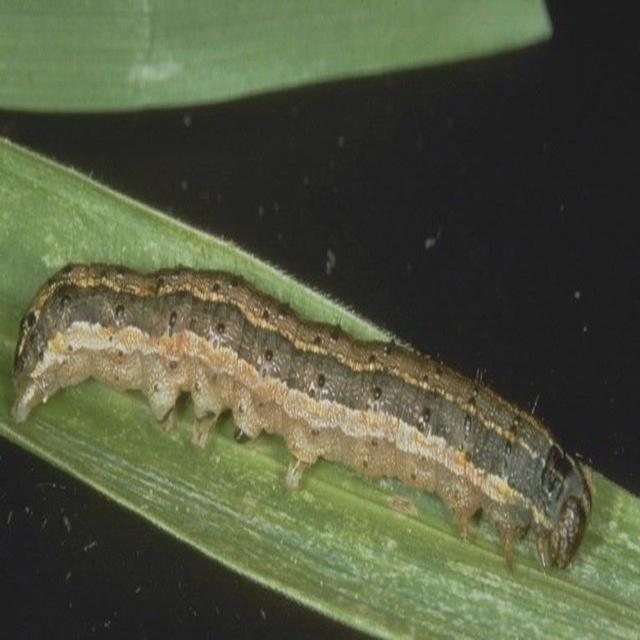gusano_cogollero: (6, 254, 598, 570)
